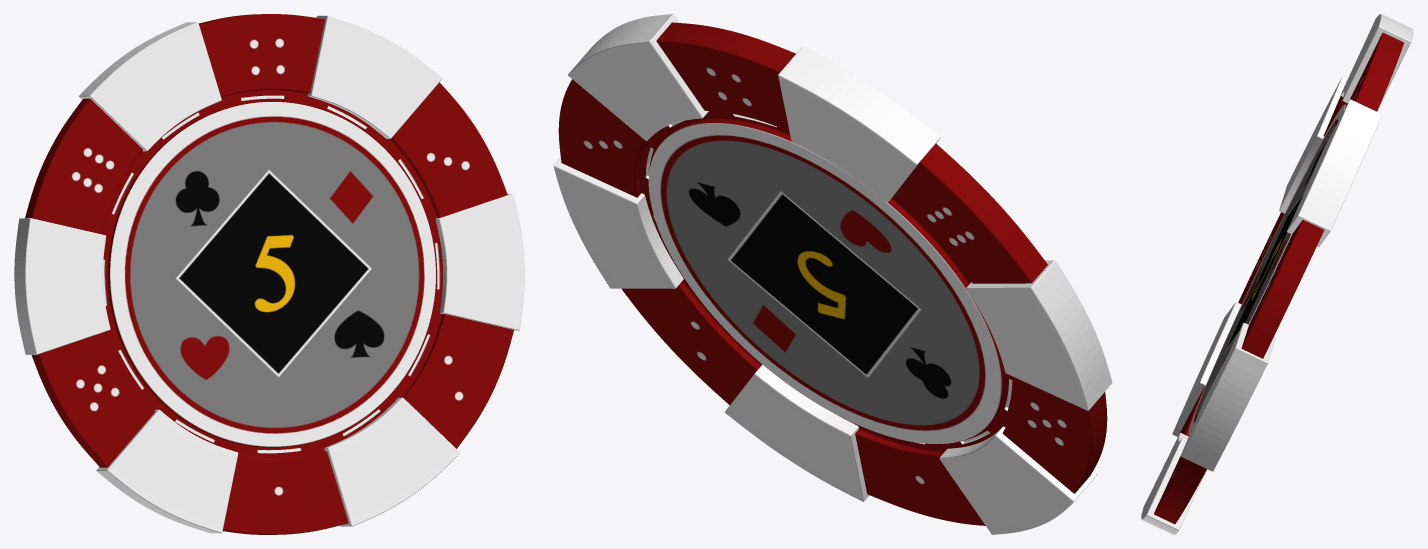
The picture shows the model from 3 angles, left to right: view 1: azimuth 30°, elevation 25°; view 2: azimuth 150°, elevation 25°; view 3: azimuth 270°, elevation 25°; orthographic projection. The views are drawn at different scales.
Visible parts, largest first — view 1: 7d5f4686-0b18-4b04-9771-e9b4f2a2f64f, f94f3bf5-7f35-4415-b0e5-480069d8aa14; view 2: 7d5f4686-0b18-4b04-9771-e9b4f2a2f64f, f94f3bf5-7f35-4415-b0e5-480069d8aa14; view 3: f94f3bf5-7f35-4415-b0e5-480069d8aa14, 7d5f4686-0b18-4b04-9771-e9b4f2a2f64f.
Boxes of the visible parts, x1,y1,x2,y2 form: 7d5f4686-0b18-4b04-9771-e9b4f2a2f64f: (25,14,513,534); f94f3bf5-7f35-4415-b0e5-480069d8aa14: (14,15,524,533); 7d5f4686-0b18-4b04-9771-e9b4f2a2f64f: (558,22,1107,525); f94f3bf5-7f35-4415-b0e5-480069d8aa14: (553,14,1112,534); f94f3bf5-7f35-4415-b0e5-480069d8aa14: (1141,14,1413,534); 7d5f4686-0b18-4b04-9771-e9b4f2a2f64f: (1154,32,1403,524).
Bounding box in the file's own units: 107 × 99.6 × 52.13.
2 materials, 1 textured.
